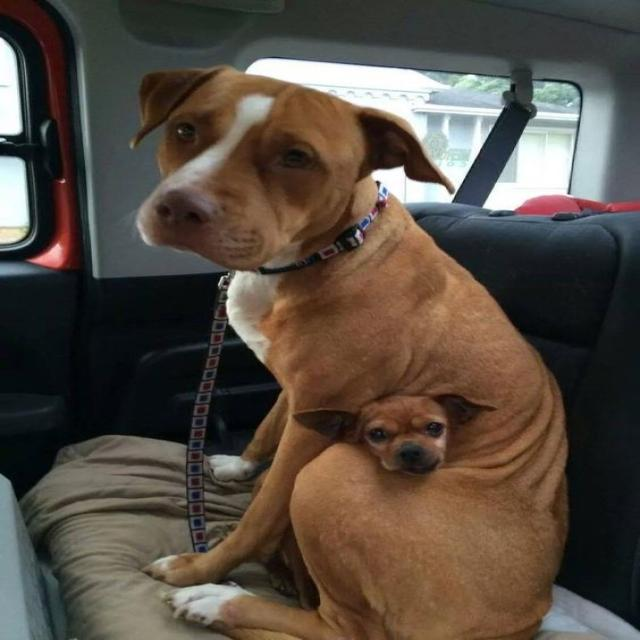dog: (66, 26, 480, 335)
